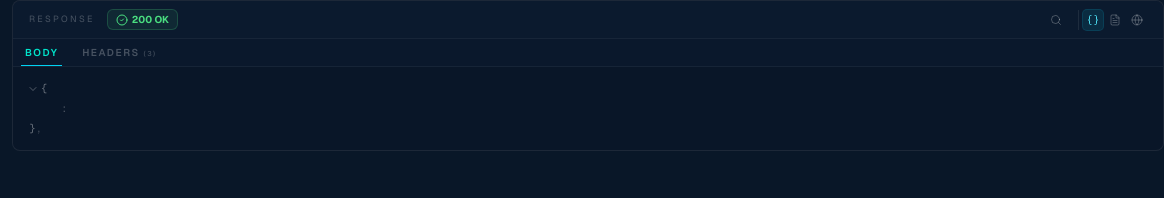
Response panel › headers tab › shows the header count and every header
Click the button "headers(3)".
click(120, 52)  # box [70,39,169,66]
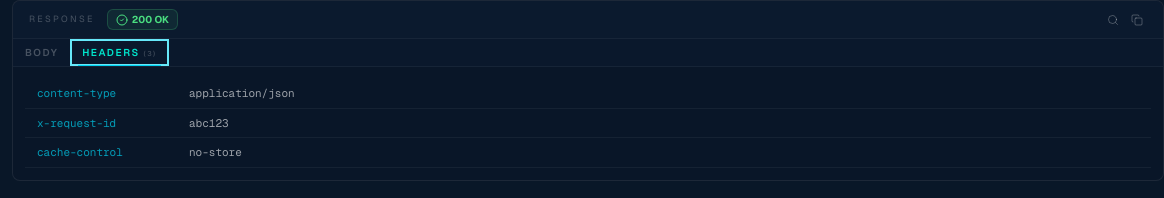
Expected: the text "x-request-id" is shown, [37,116,116,130]
Expected: the text "abc123" is shown, [189,116,229,130]
